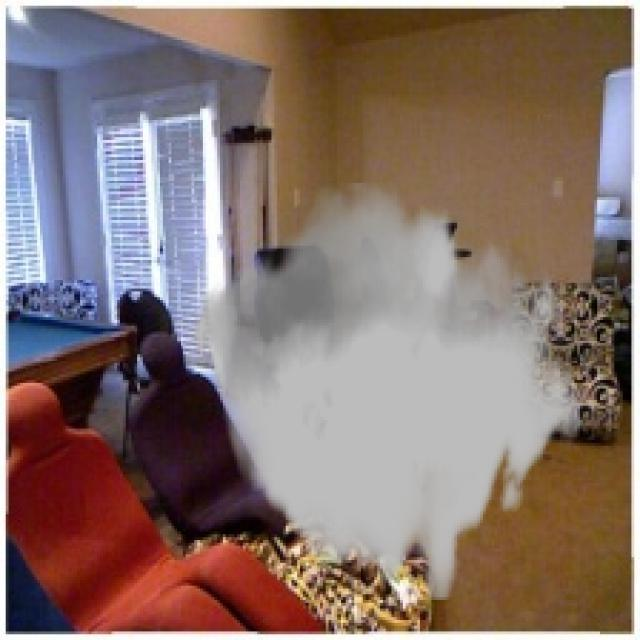Smoke: (191, 183, 583, 600)
